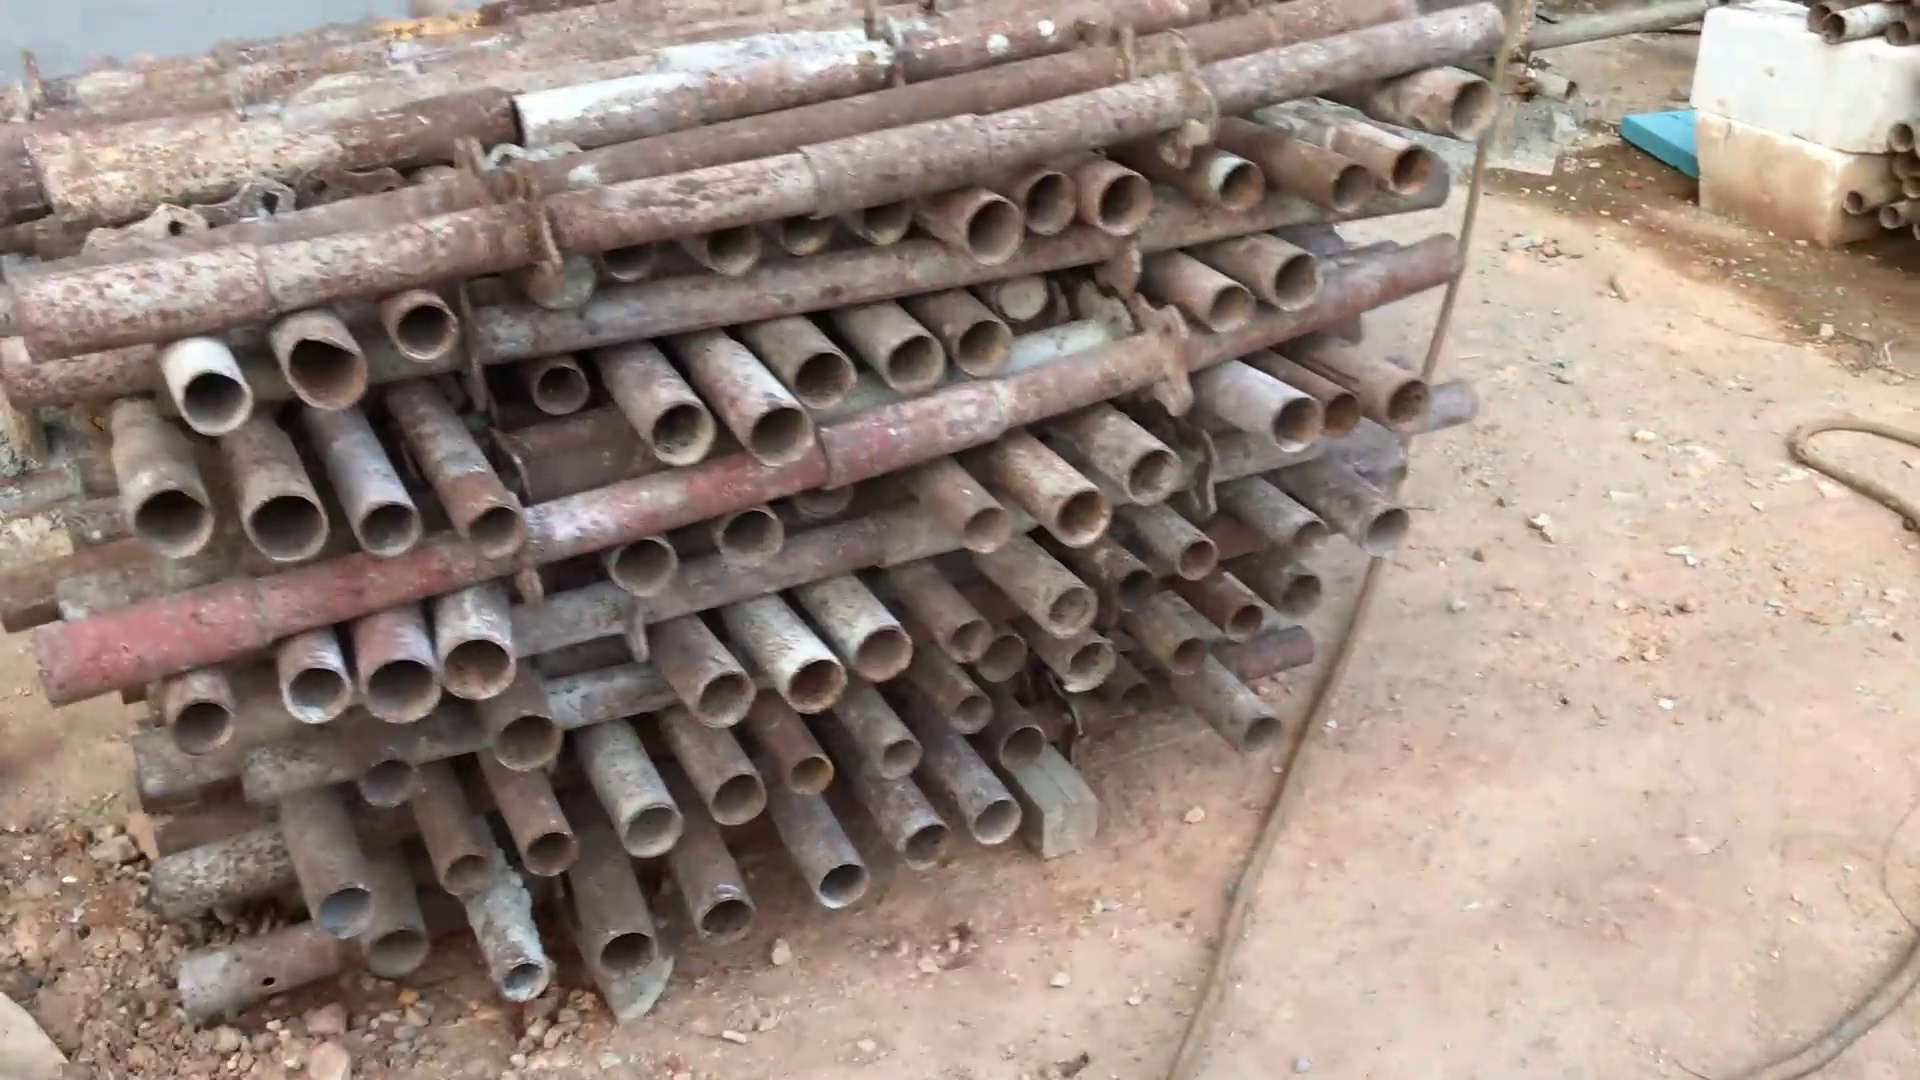scaffold: (1, 1, 1522, 1043)
